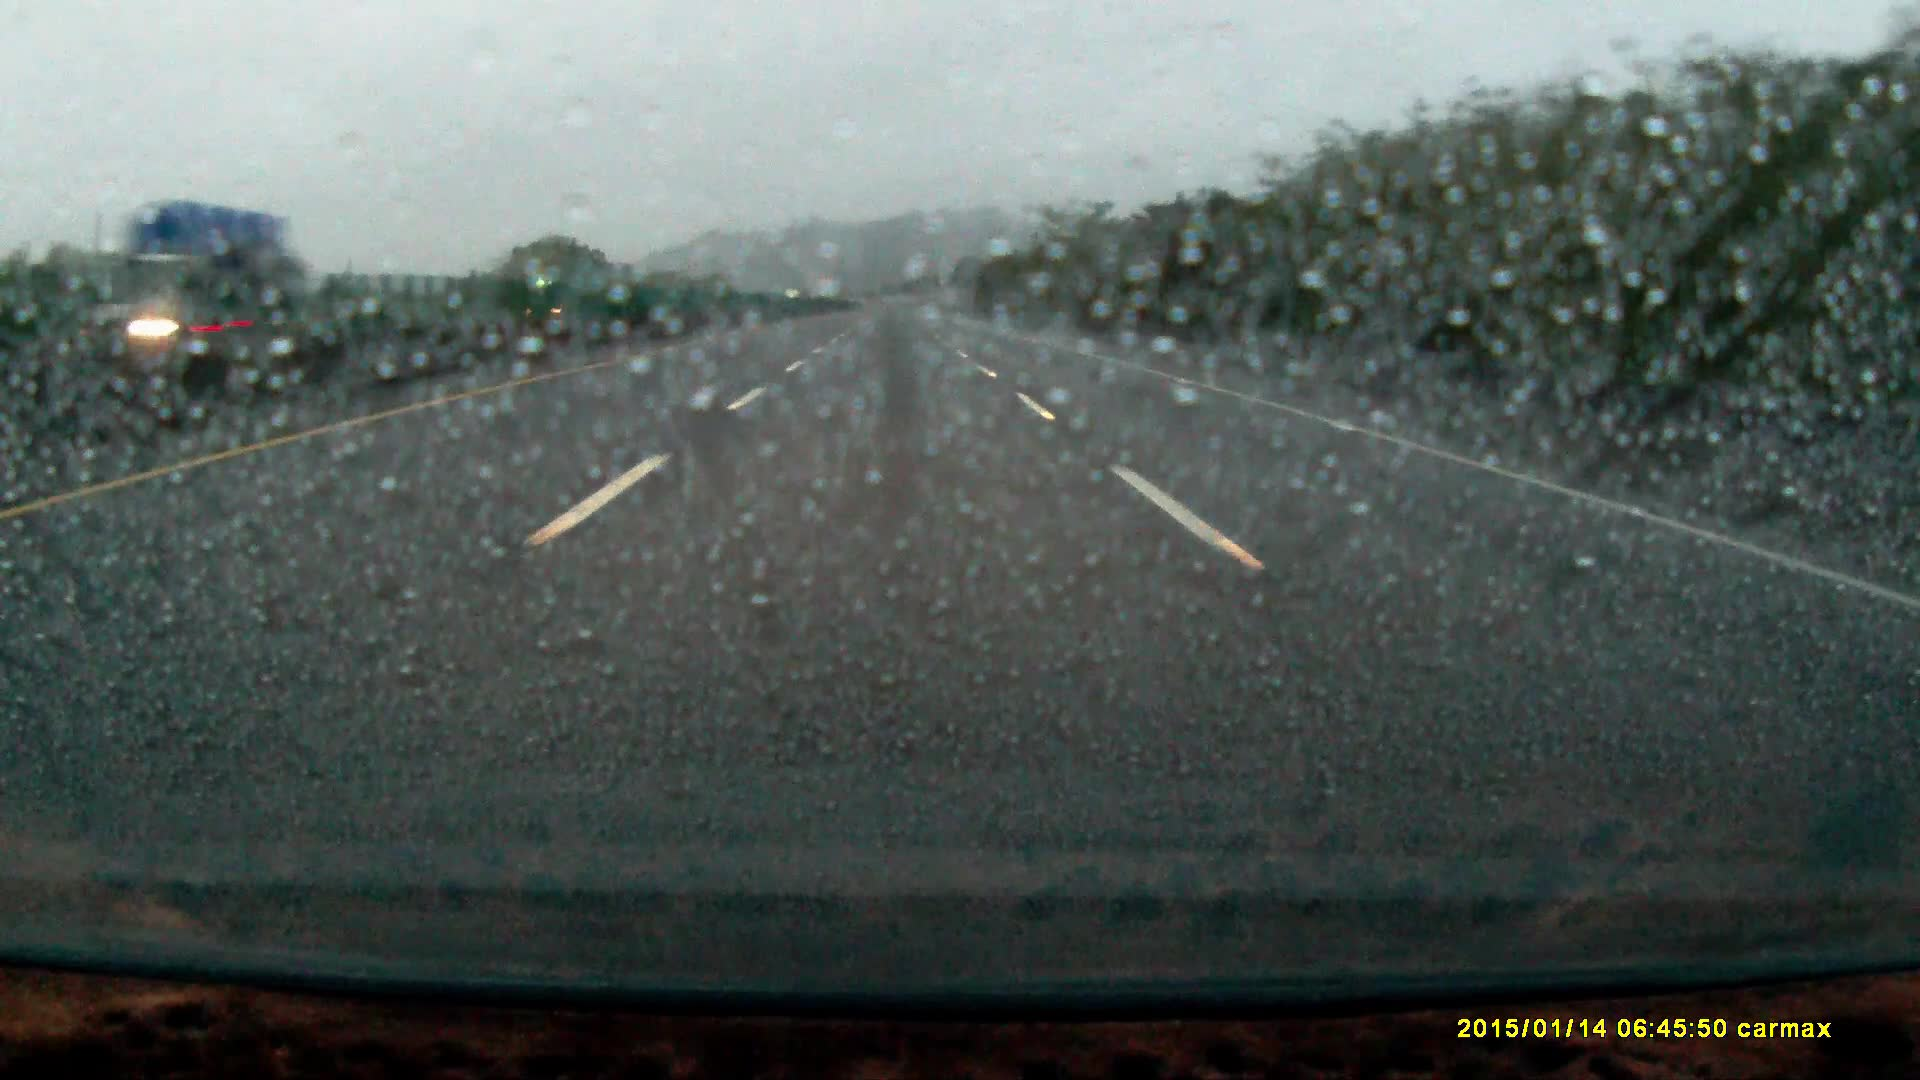vehicle: (71, 200, 291, 369), (518, 262, 615, 330)
